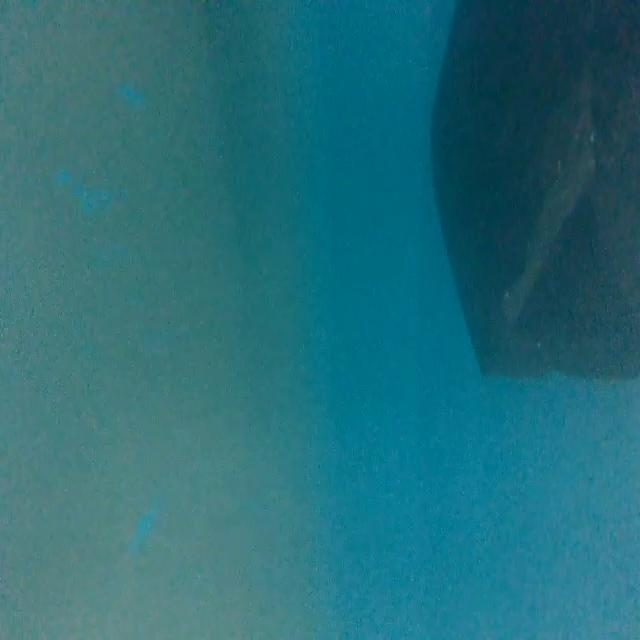plastic bags: (432, 0, 640, 388)
